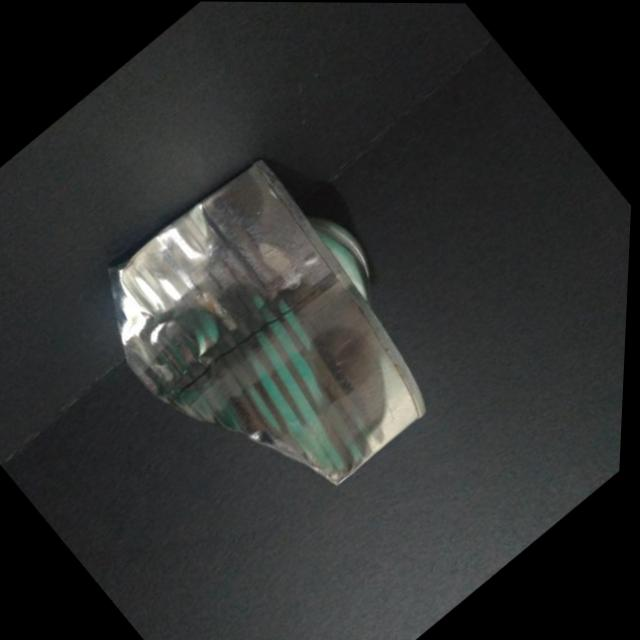metal: (58, 128, 488, 549)
